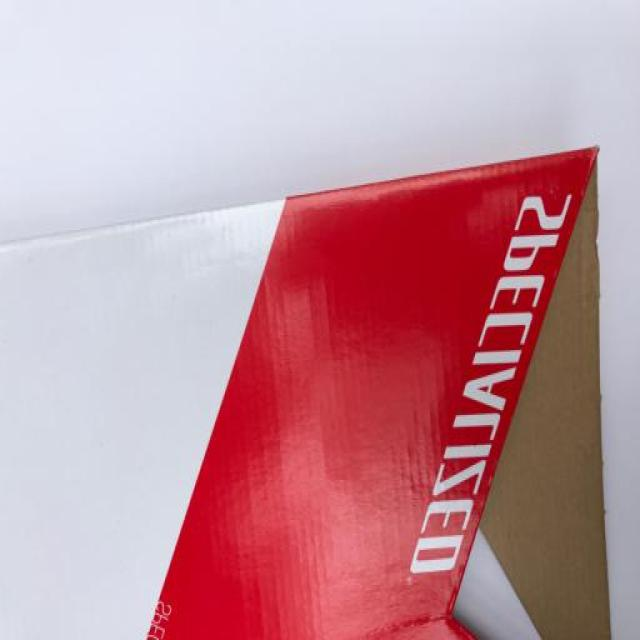cardboard: (0, 147, 612, 640)
